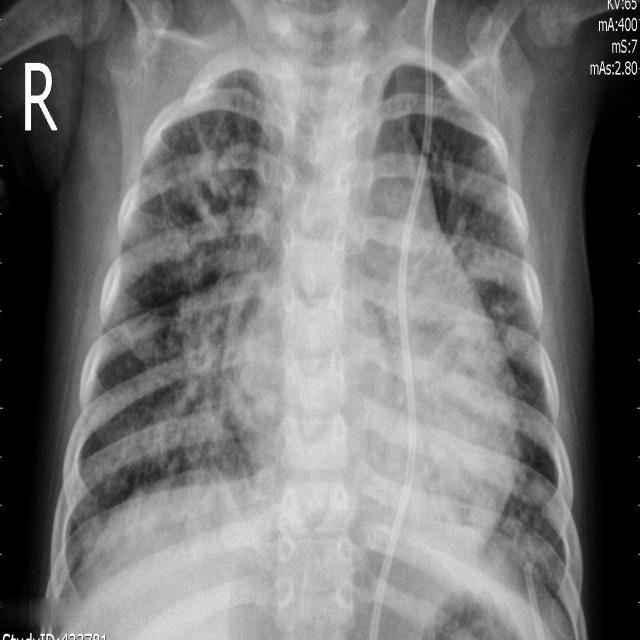low-pneumonia: (160, 57, 257, 278), (451, 158, 542, 389), (158, 268, 241, 477)
